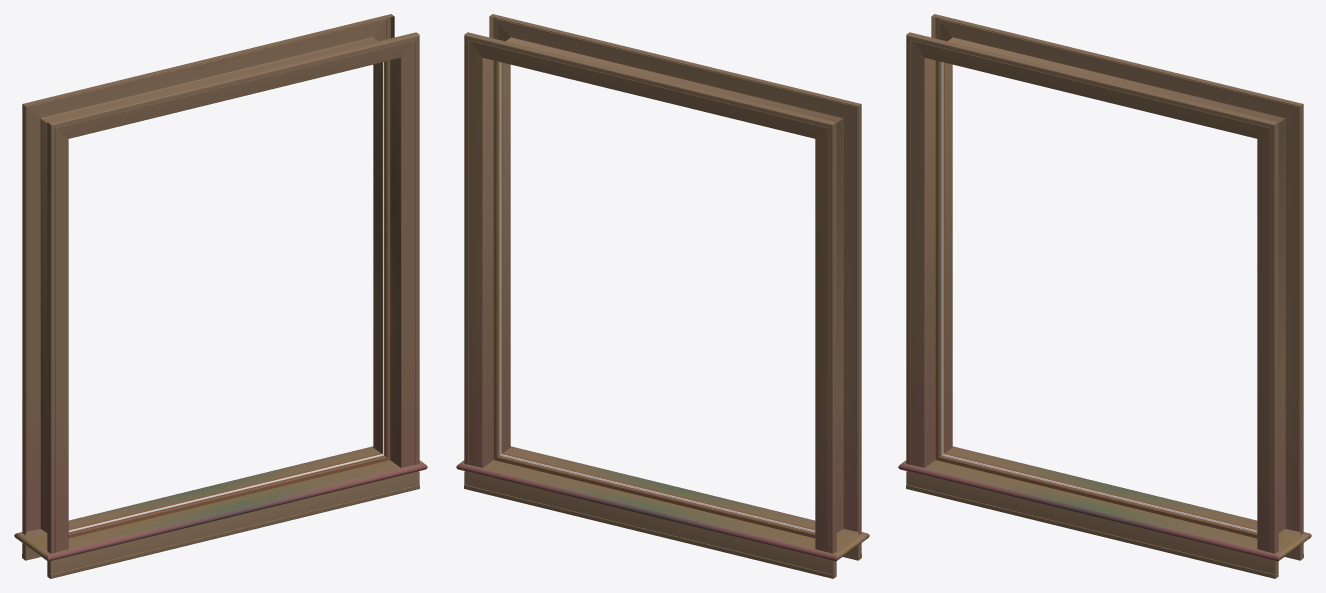
File: Kit_WindowFrame_Wood.fbx
The picture shows the model from 3 angles, left to right: view 1: azimuth 30°, elevation 25°; view 2: azimuth 150°, elevation 25°; view 3: azimuth 330°, elevation 25°; orthographic projection.
Visible parts, largest first — view 1: Kit_WindowFrame_Wood_LOD0; view 2: Kit_WindowFrame_Wood_LOD0; view 3: Kit_WindowFrame_Wood_LOD0.
Boxes of the visible parts, x1,y1,x2,y2 form: Kit_WindowFrame_Wood_LOD0: (14, 14, 427, 578); Kit_WindowFrame_Wood_LOD0: (456, 14, 869, 578); Kit_WindowFrame_Wood_LOD0: (898, 14, 1311, 578).
Size of what is drawn, in the model's own units: 1.6 by 1.83 by 0.242.
